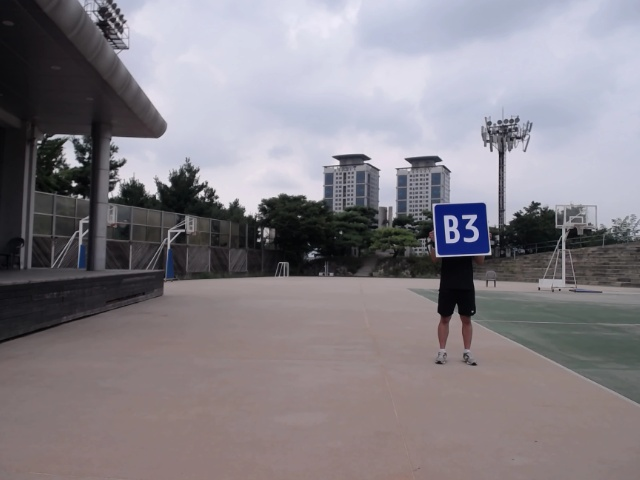delivery_b3: (431, 201, 493, 258)
